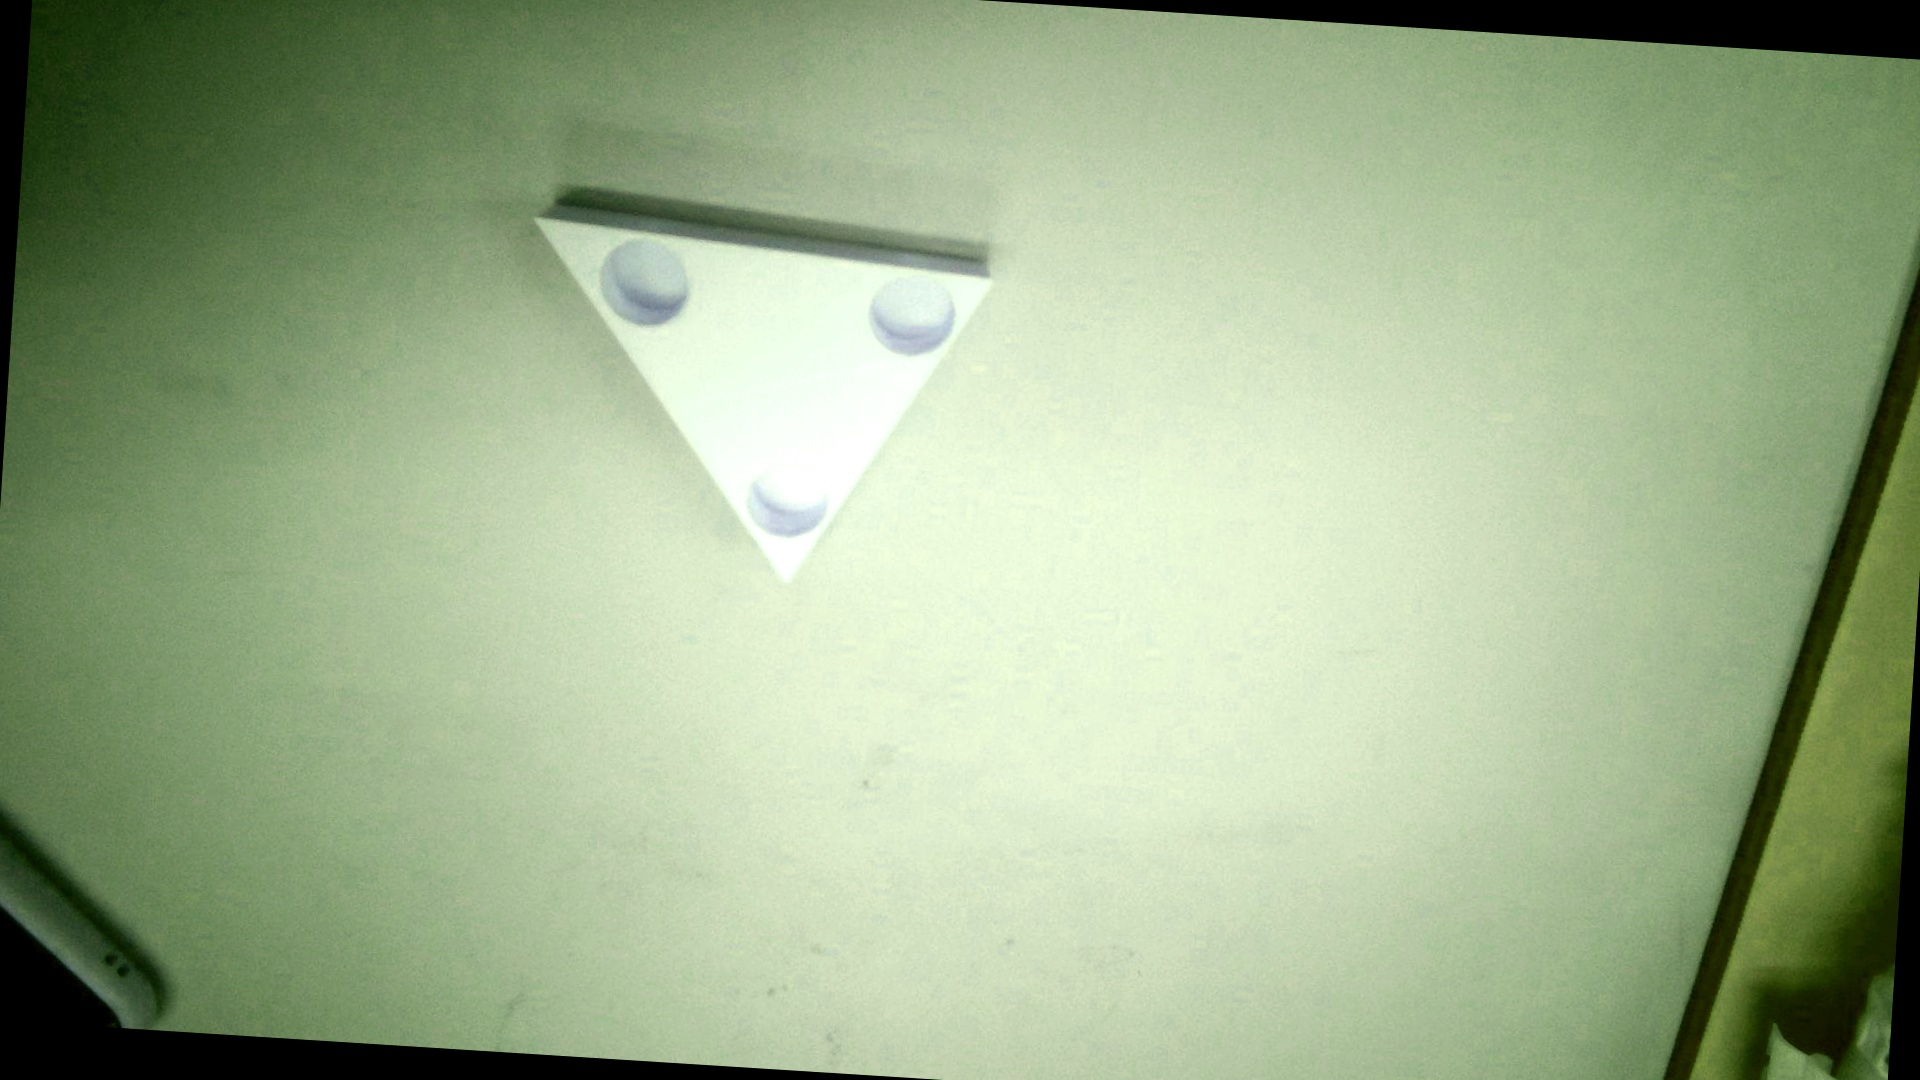hole: (857, 255, 957, 375), (742, 458, 844, 547), (593, 235, 688, 324)
obj: (498, 182, 1007, 611)
